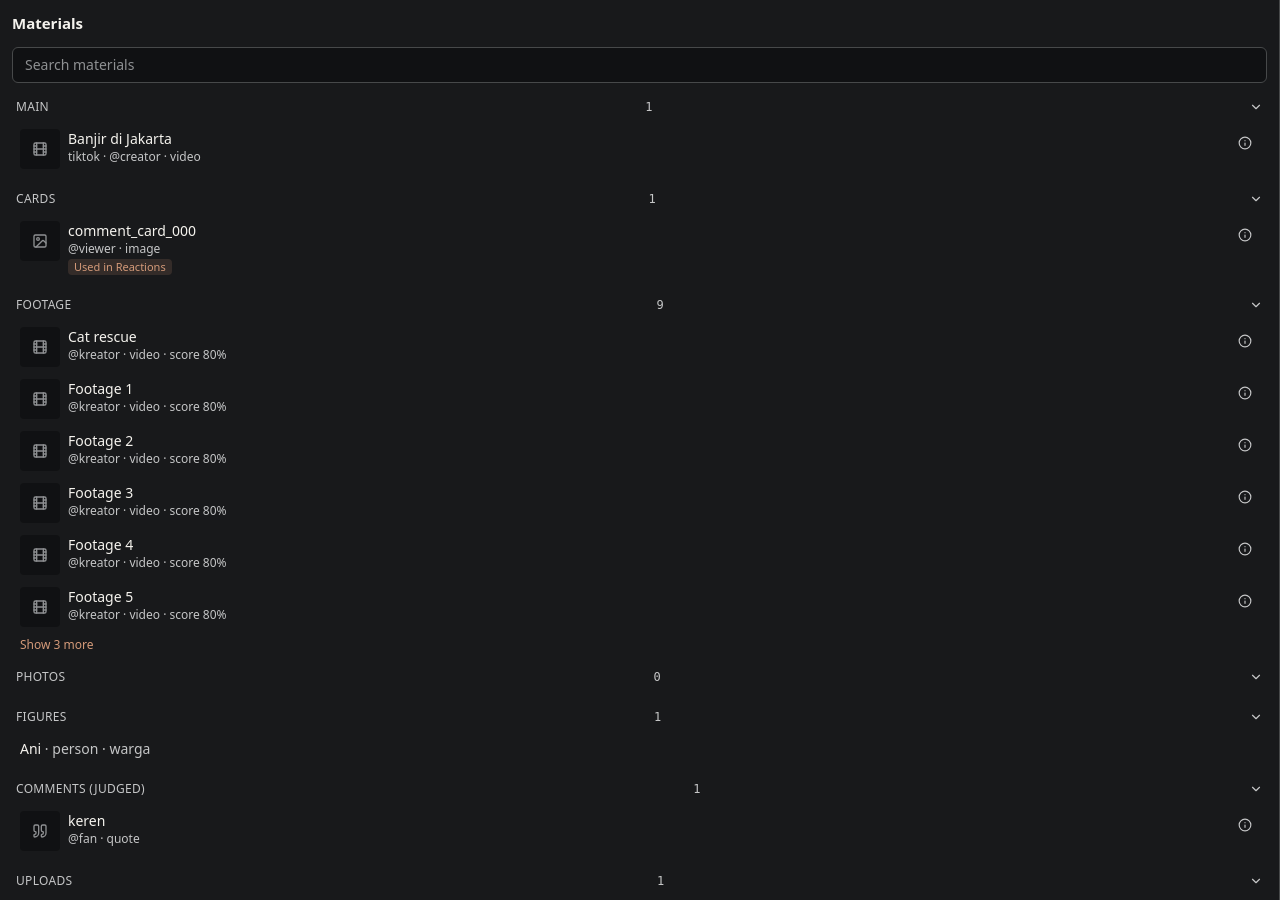
Test case: a group collapses
Click the button "Footage 9" at (44, 304), box [12,293,1267,317]
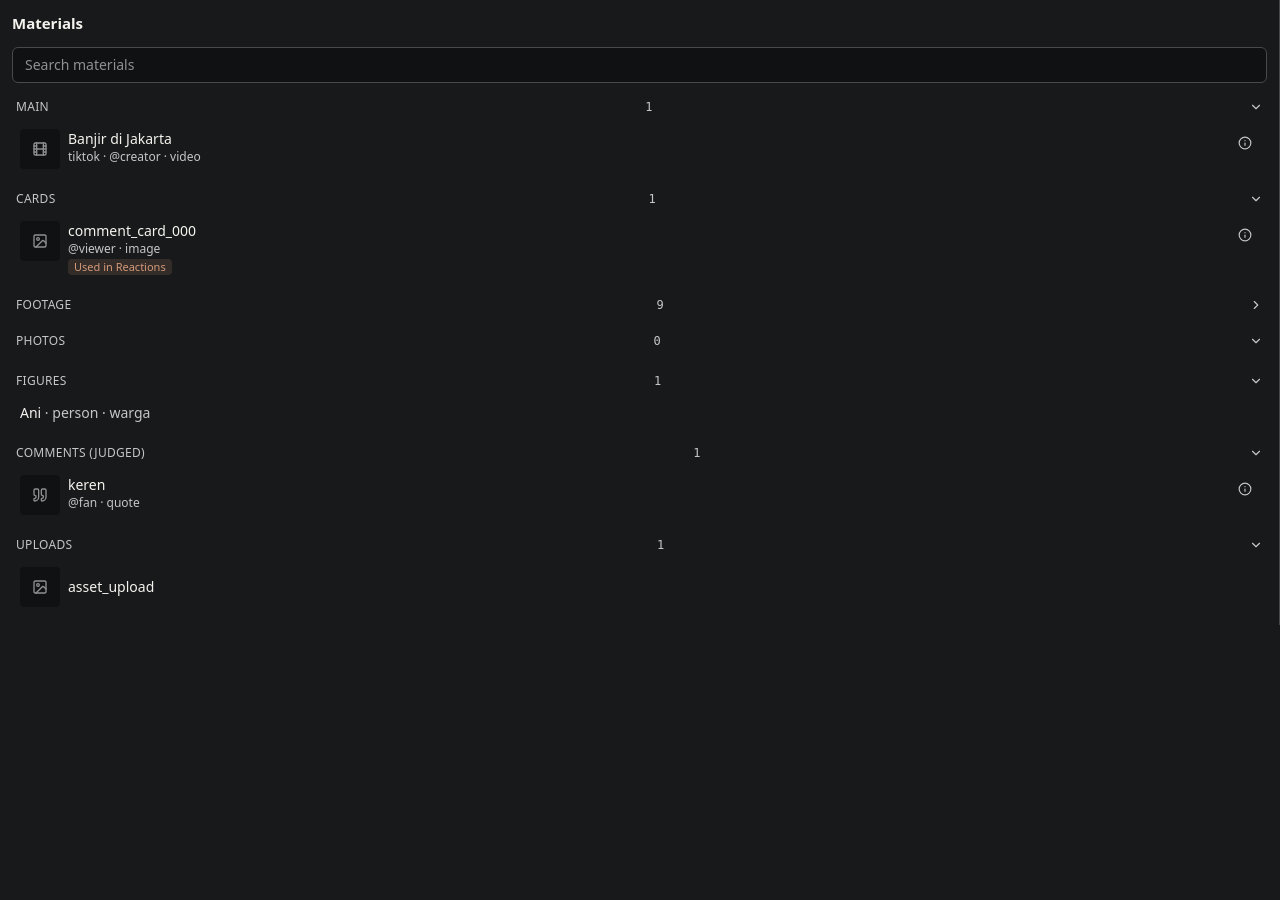
Now the button "Footage 9" is collapsed, box [12,293,1267,317]
Now no the list item "Cat rescue @kreator · video · score 80%" are shown
